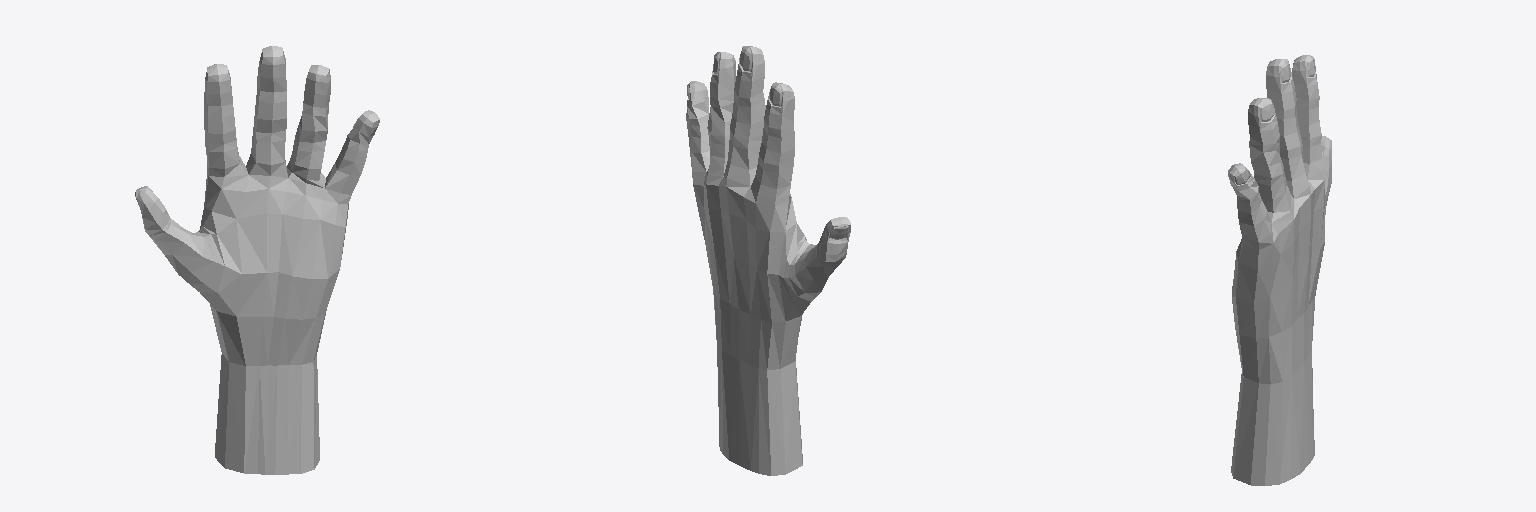
The model's file is handAnimated4_000101.obj.
3 views of the same model, side by side, from view 1: azimuth 30°, elevation 25°; view 2: azimuth 150°, elevation 25°; view 3: azimuth 270°, elevation 25° (orthographic).
Parts seen in each view (by area): view 1: Cube.000_Cube.017_Detached_Detached; view 2: Cube.000_Cube.017_Detached_Detached; view 3: Cube.000_Cube.017_Detached_Detached.
Part boxes in pixels (bbox=[...]): Cube.000_Cube.017_Detached_Detached: bbox=[135, 46, 379, 474]; Cube.000_Cube.017_Detached_Detached: bbox=[686, 46, 850, 475]; Cube.000_Cube.017_Detached_Detached: bbox=[1228, 55, 1331, 485].
Bounding box in the file's own units: 0.6941 × 1.34 × 0.3096.